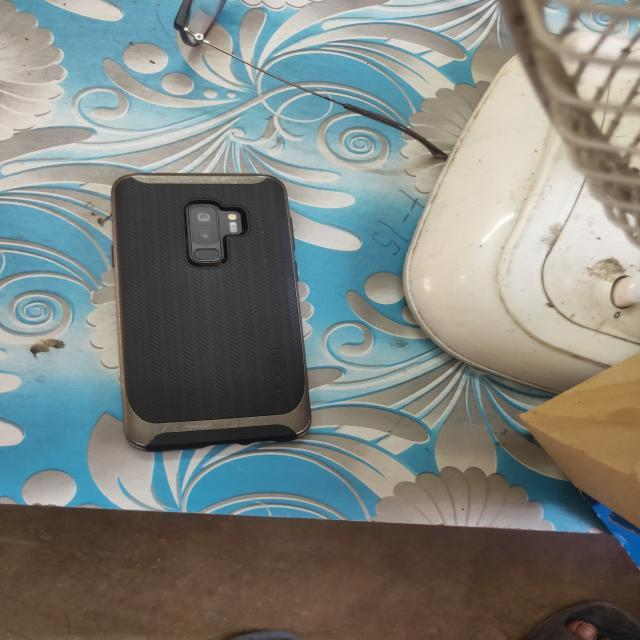Phone: (107, 171, 319, 457)
